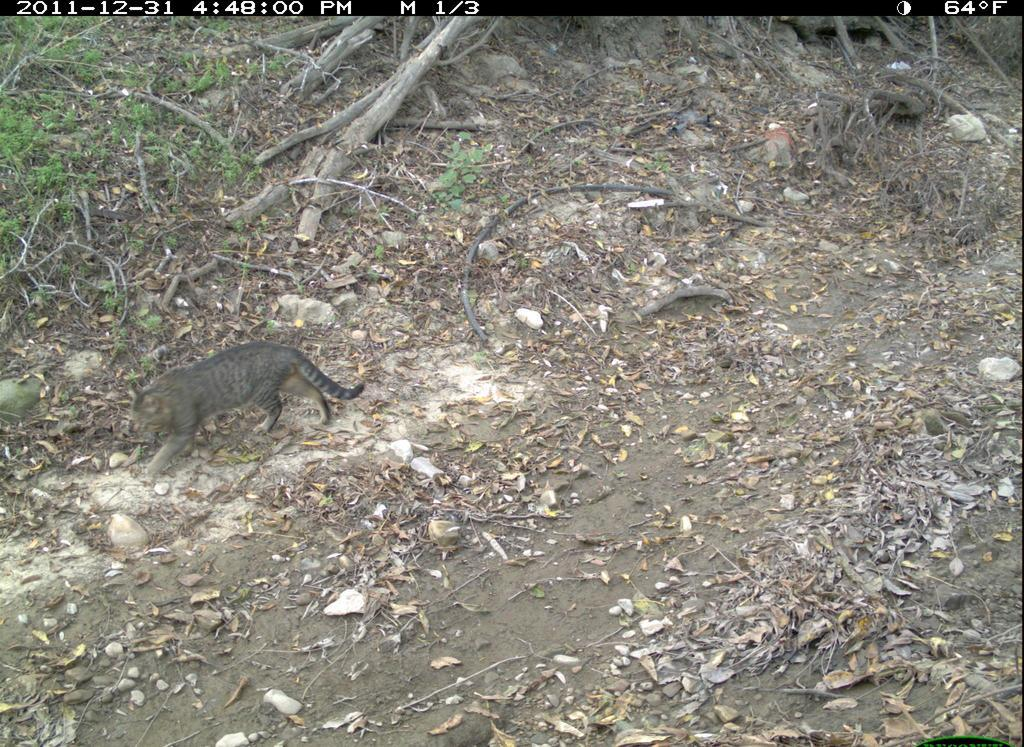cat: (114, 332, 372, 484)
